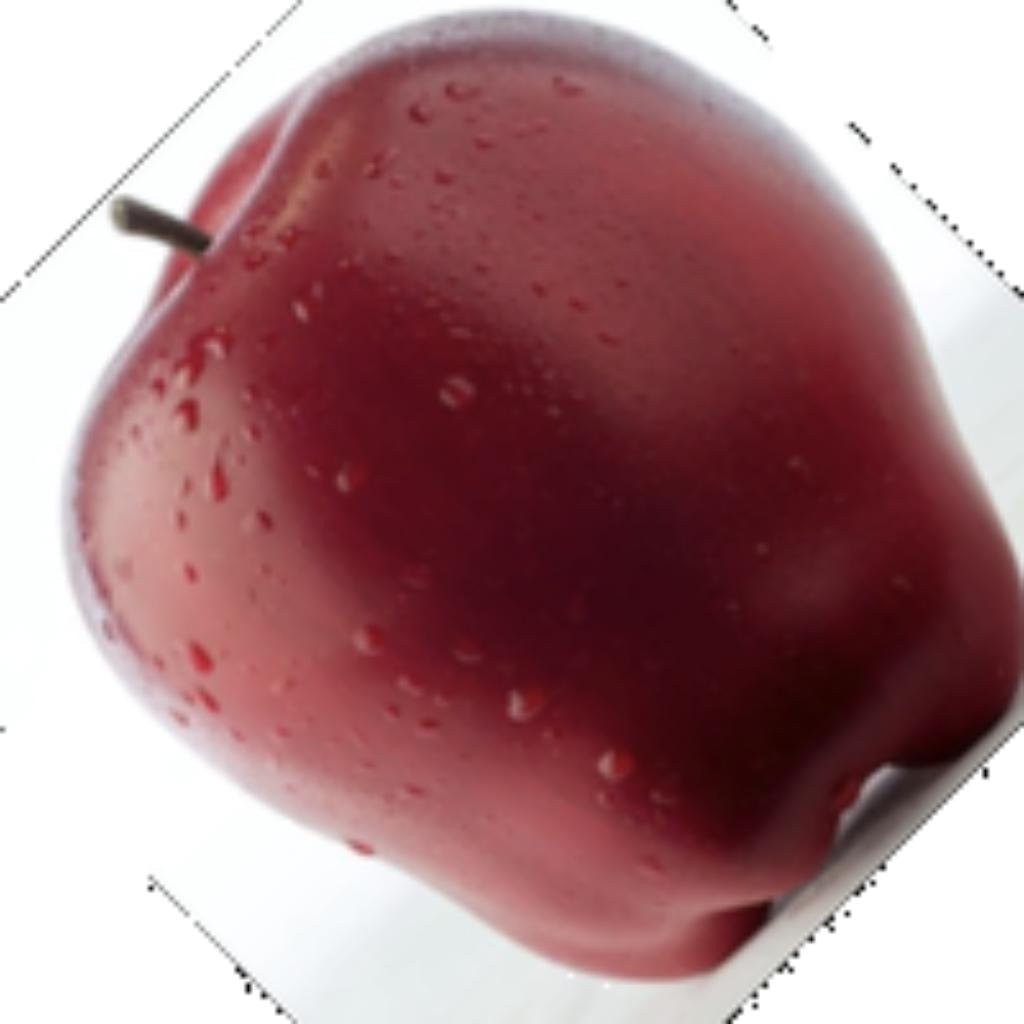apple: (29, 0, 1019, 1019)
